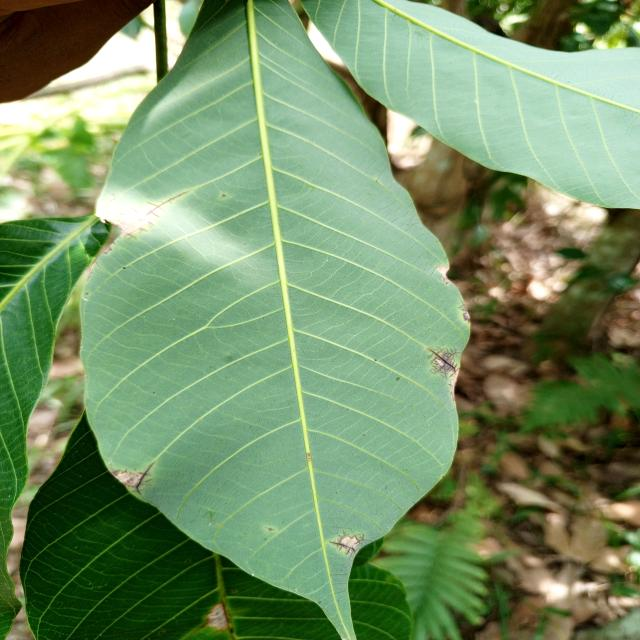Corynespora: (140, 192, 187, 216), (428, 347, 458, 379), (134, 462, 154, 494), (328, 540, 359, 556)
Leaf-Blight: (207, 602, 227, 631)
